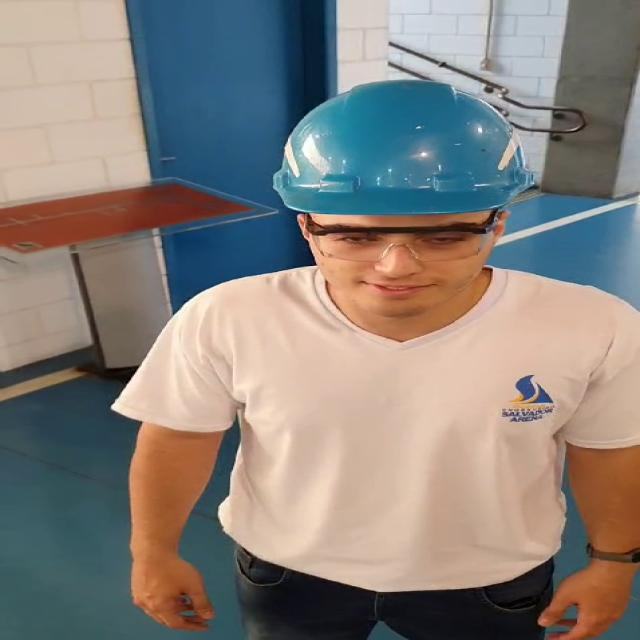oculos-epi: (305, 215, 493, 262)
